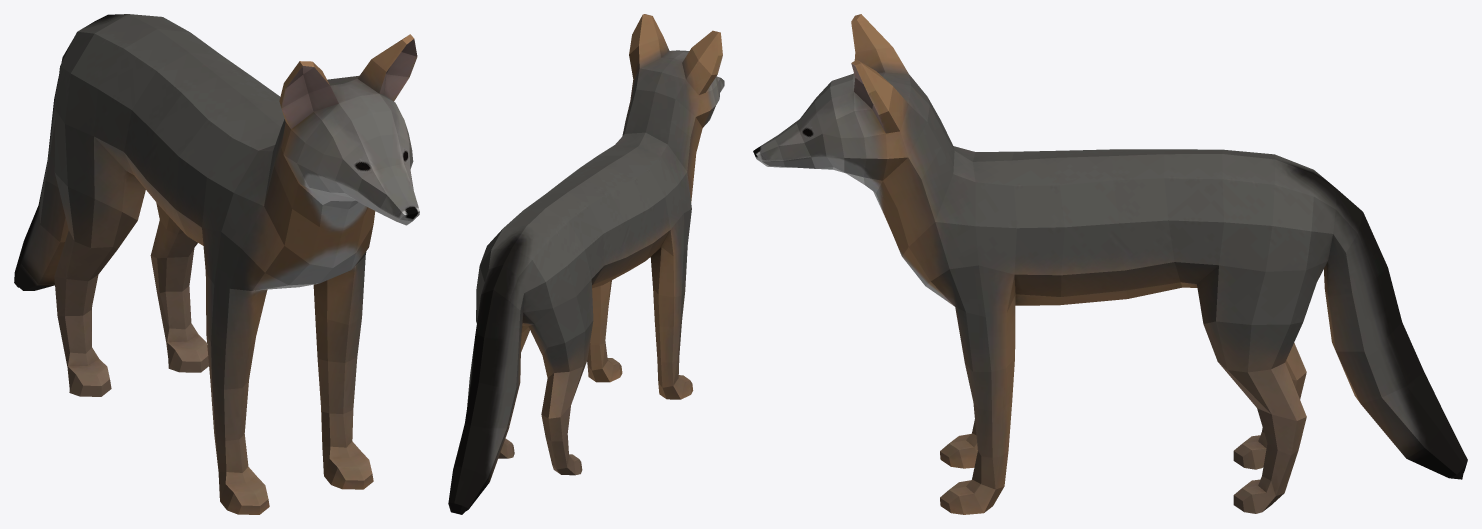
The model's file is 2LZMldgUhTj.glb.
3 renders of one model, left to right at view 1: azimuth 30°, elevation 25°; view 2: azimuth 150°, elevation 25°; view 3: azimuth 270°, elevation 25°, orthographic. The views are drawn at different scales.
Parts seen in each view (by area): view 1: GrayFox_Mesh; view 2: GrayFox_Mesh; view 3: GrayFox_Mesh.
Boxes of the visible parts, x1,y1,x2,y2 form: GrayFox_Mesh: (14, 14, 419, 514); GrayFox_Mesh: (448, 14, 724, 514); GrayFox_Mesh: (753, 14, 1467, 514).
Bounding box in the file's own units: 0.3167 × 1 × 1.46.
1 material, 1 textured.
